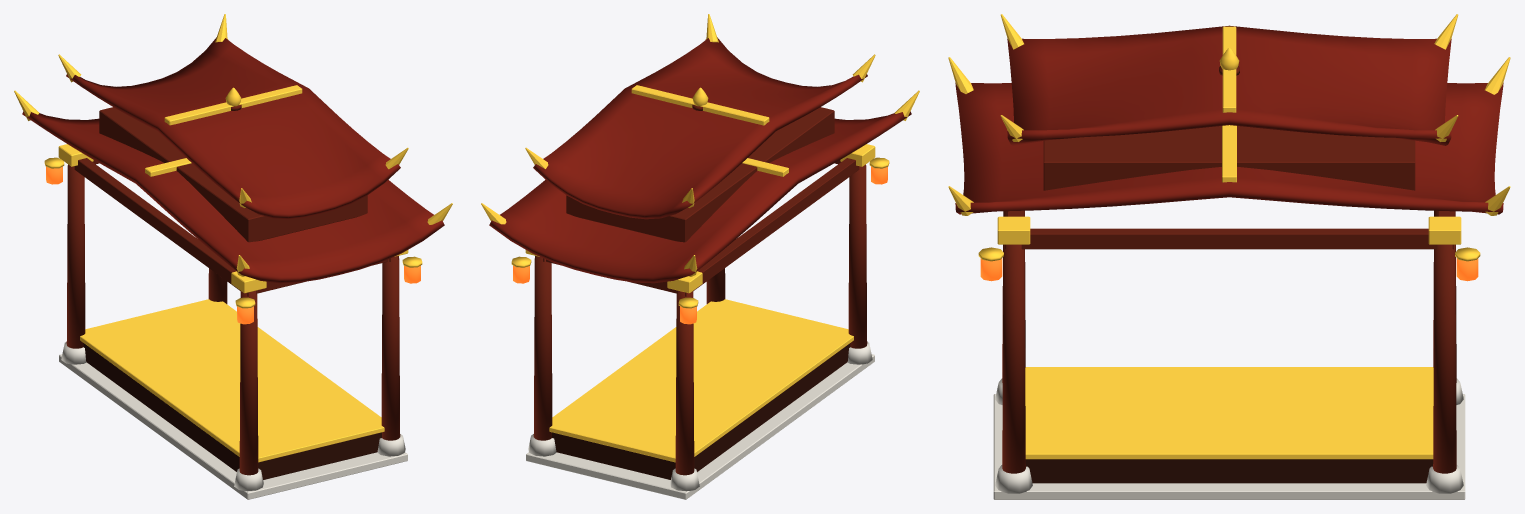
The model's file is mai_dinh_sala.glb.
3 views of the same model, side by side, from view 1: azimuth 30°, elevation 25°; view 2: azimuth 150°, elevation 25°; view 3: azimuth 270°, elevation 25° (orthographic). The views are drawn at different scales.
Parts seen in each view (by area): view 1: mai_dinh_sala; view 2: mai_dinh_sala; view 3: mai_dinh_sala.
Boxes of the visible parts, x1,y1,x2,y2 form: mai_dinh_sala: (14,14,452,499); mai_dinh_sala: (481,14,919,499); mai_dinh_sala: (948,14,1510,499).
Bounding box in the file's own units: 6.79 × 9.82 × 12.4.
